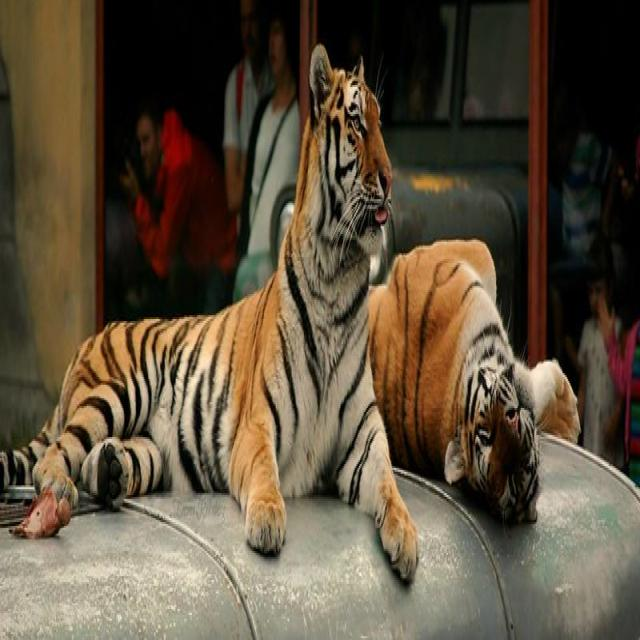Tiger: (0, 37, 420, 586), (365, 226, 583, 528)
